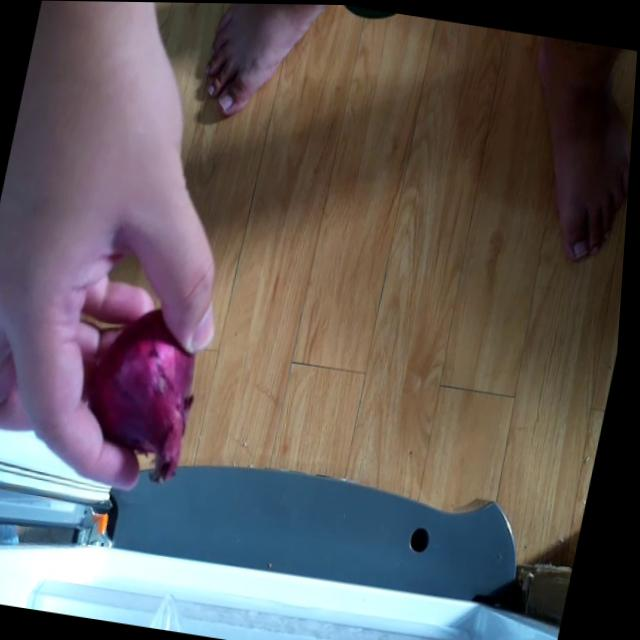onion: (71, 296, 219, 487)
